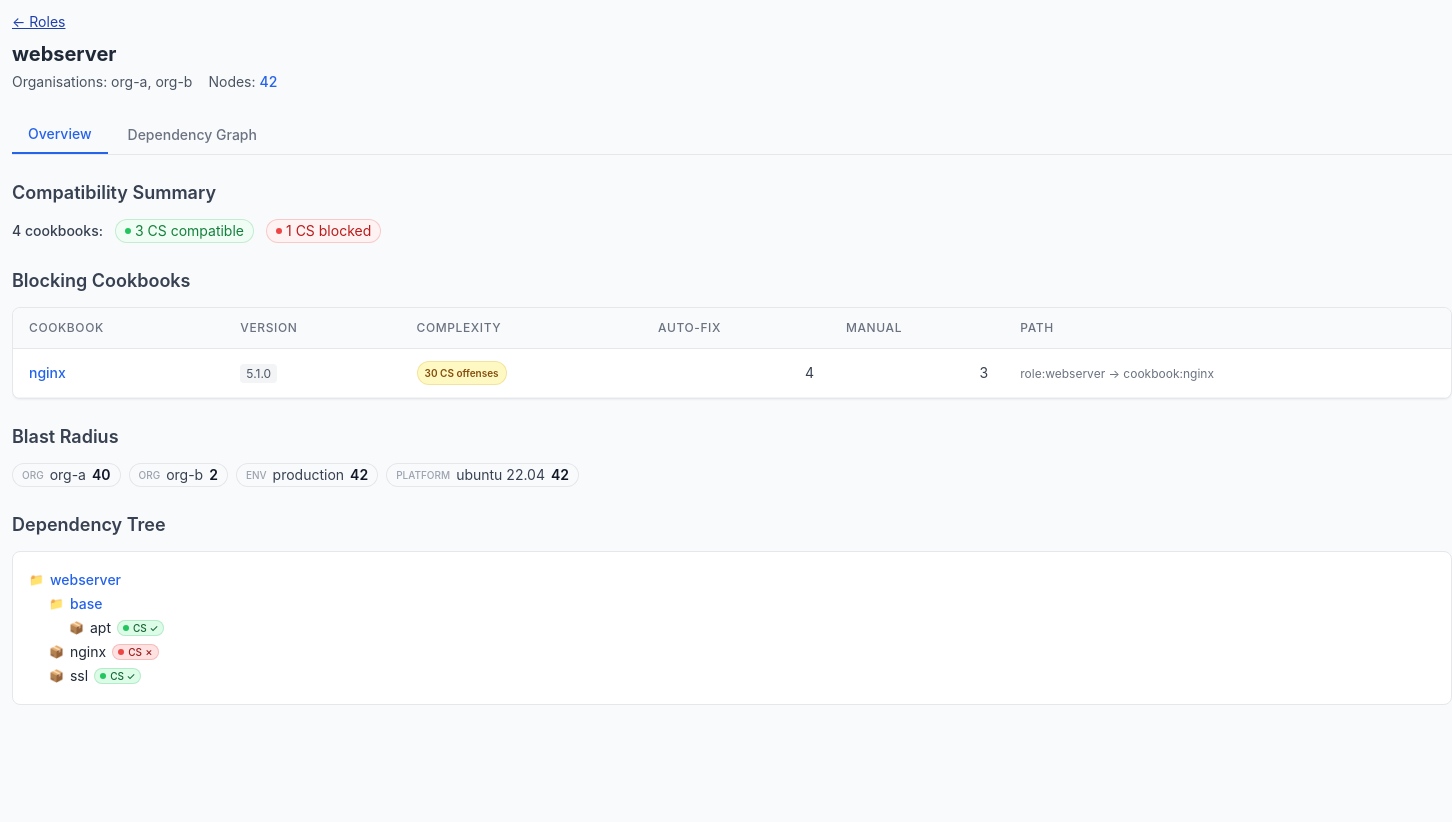
Test case: RoleDetailPage › graph tab › graph tab shows loading state
Expected: the heading "webserver" is shown, [12,42,116,66]
Click the button "Dependency Graph".
click(192, 135)  # box [112,116,273,154]
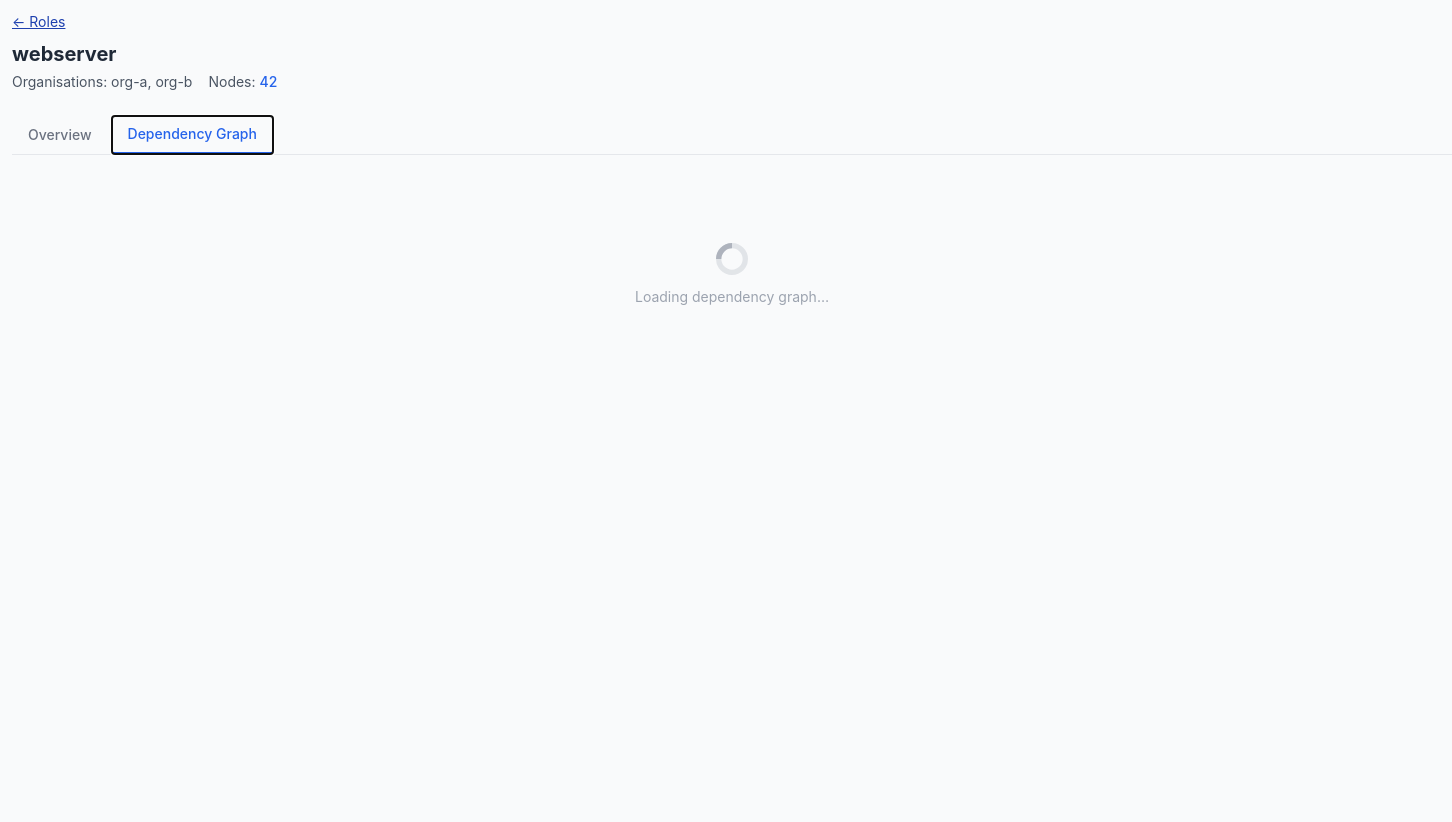
Result: the text "Loading dependency graph…" is shown at [635,287,829,307]
